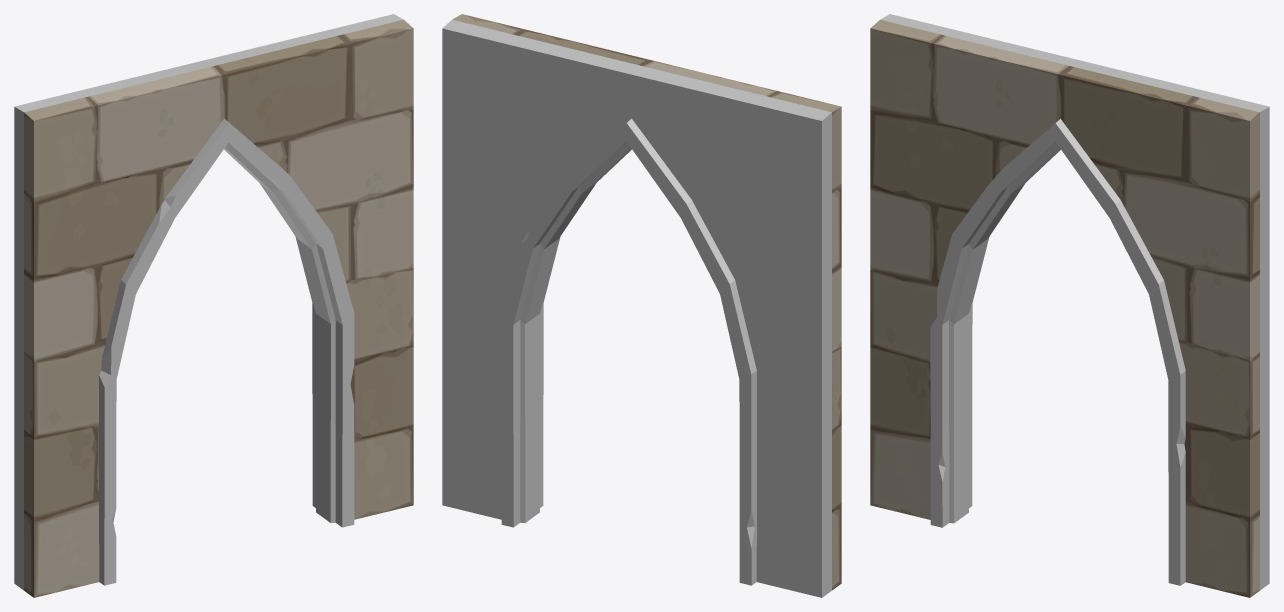
Rendered from SM_Bld_Wall_Doorway_01.fbx.
3 renders of one model, left to right at view 1: azimuth 30°, elevation 25°; view 2: azimuth 150°, elevation 25°; view 3: azimuth 330°, elevation 25°, orthographic.
Parts seen in each view (by area): view 1: SM_Bld_Wall_Doorway_01; view 2: SM_Bld_Wall_Doorway_01; view 3: SM_Bld_Wall_Doorway_01.
Boxes of the visible parts, left/top/right/bottom form: SM_Bld_Wall_Doorway_01: left=14, top=14, right=413, bottom=597; SM_Bld_Wall_Doorway_01: left=442, top=14, right=841, bottom=597; SM_Bld_Wall_Doorway_01: left=870, top=14, right=1269, bottom=597.
Size of the model in its own units: 250 by 301 by 34.46.
